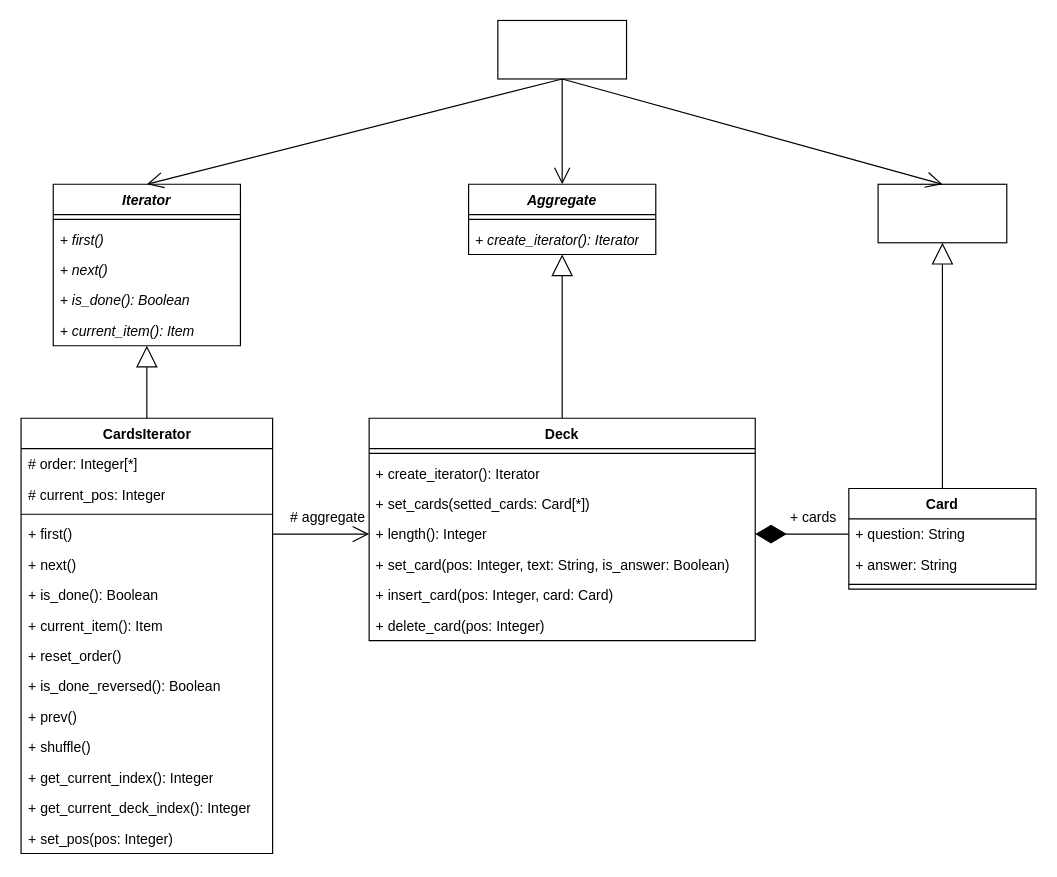
This 1057x877 diagram has some shape labels left out. Each missing label, with the centre of its shape:
Client: [562,49]
Item: [942,213]
